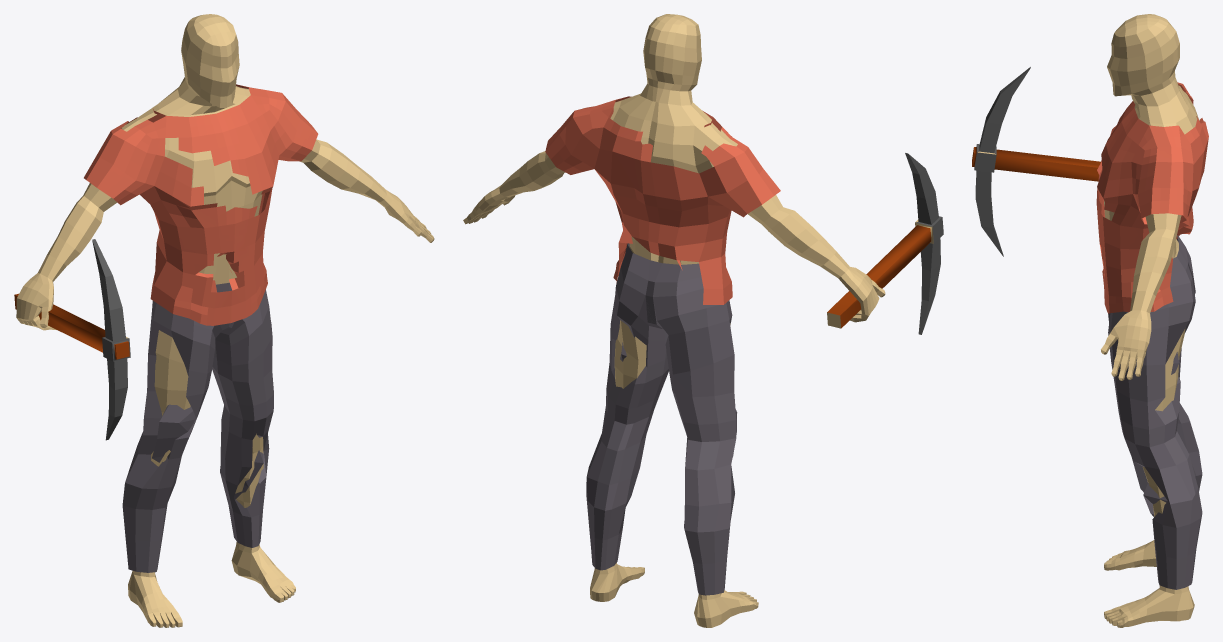
The picture shows the model from 3 angles, left to right: view 1: azimuth 30°, elevation 25°; view 2: azimuth 150°, elevation 25°; view 3: azimuth 270°, elevation 25°; orthographic projection.
Visible parts, largest first — view 1: Body, Body.001, Body.002; view 2: Body.002, Body, Body.001; view 3: Body, Body.002, Body.001.
Part boxes in pixels (<box>): Body: <box>14,14,434,627</box>; Body.001: <box>84,84,318,325</box>; Body.002: <box>122,282,273,572</box>; Body.002: <box>586,243,737,595</box>; Body: <box>463,14,943,627</box>; Body.001: <box>545,96,780,304</box>; Body: <box>972,14,1199,627</box>; Body.002: <box>1108,235,1202,589</box>; Body.001: <box>1096,82,1208,313</box>.
Bounding box in the file's own units: 135 × 184 × 68.57.
